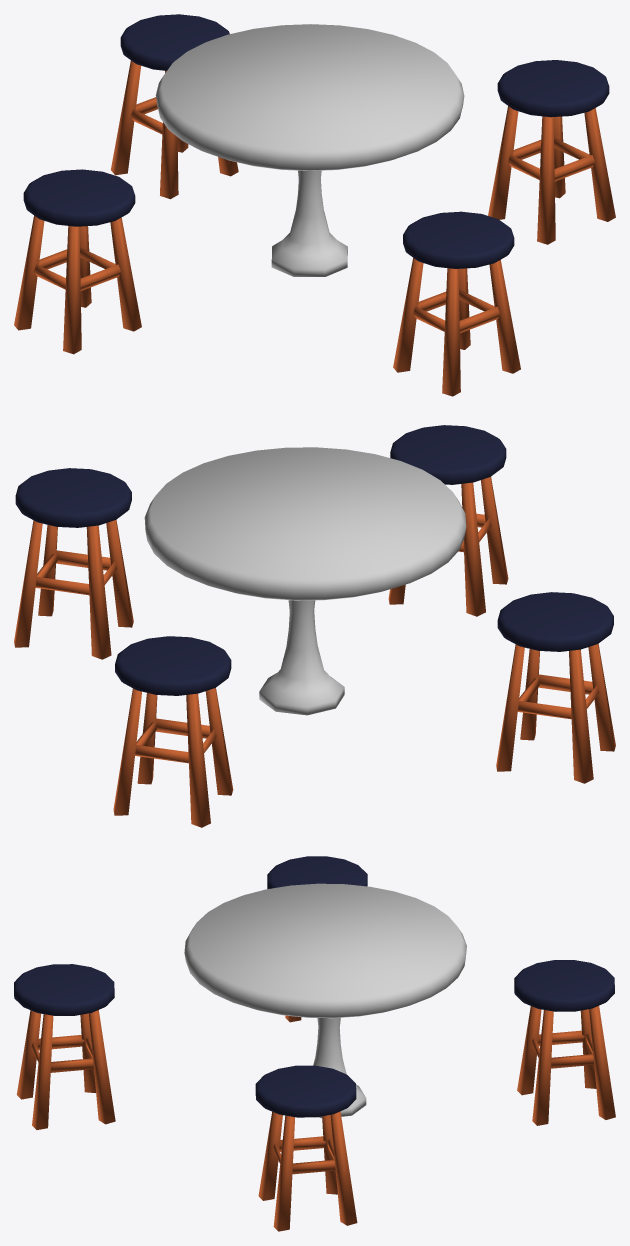
The model's file is Table and Chairs.fbx.
3 renders of one model, top to bottom at view 1: azimuth 30°, elevation 25°; view 2: azimuth 150°, elevation 25°; view 3: azimuth 270°, elevation 25°, orthographic. The views are drawn at different scales.
Parts seen in each view (by area): view 1: Cylinder.025, Cylinder.026; view 2: Cylinder.025, Cylinder.026; view 3: Cylinder.025, Cylinder.026.
Part boxes in pixels (x1,y1,x2,y2): Cylinder.025: (14, 14, 615, 396); Cylinder.026: (155, 24, 464, 276); Cylinder.025: (14, 425, 615, 827); Cylinder.026: (144, 447, 466, 715); Cylinder.025: (14, 856, 615, 1231); Cylinder.026: (184, 883, 466, 1118).
Size of the model in its own units: 341 by 344 by 104.
